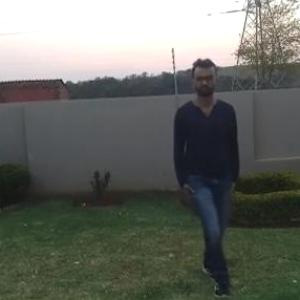follow: (170, 51, 240, 288)
